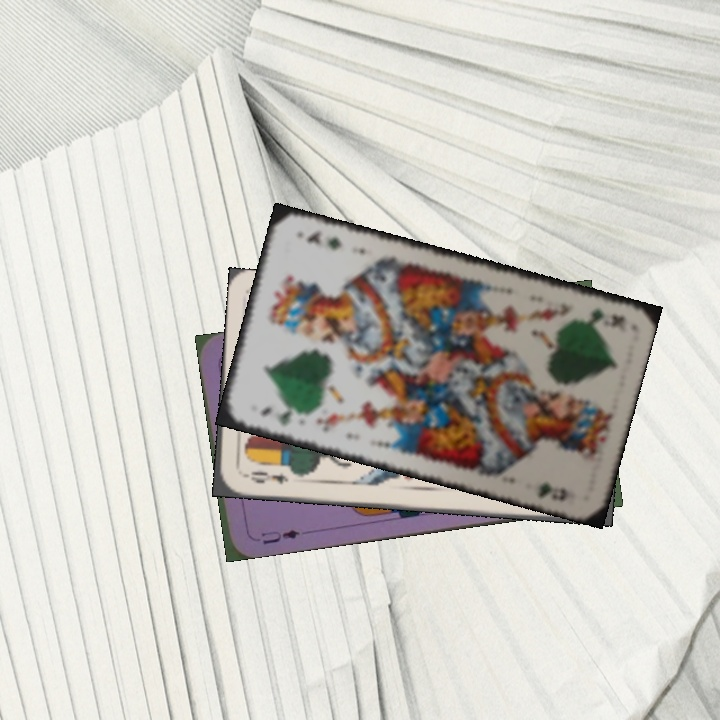EO: (239, 467, 291, 487)
EU: (257, 526, 302, 547)
GK: (583, 305, 630, 332), (256, 403, 295, 427)
